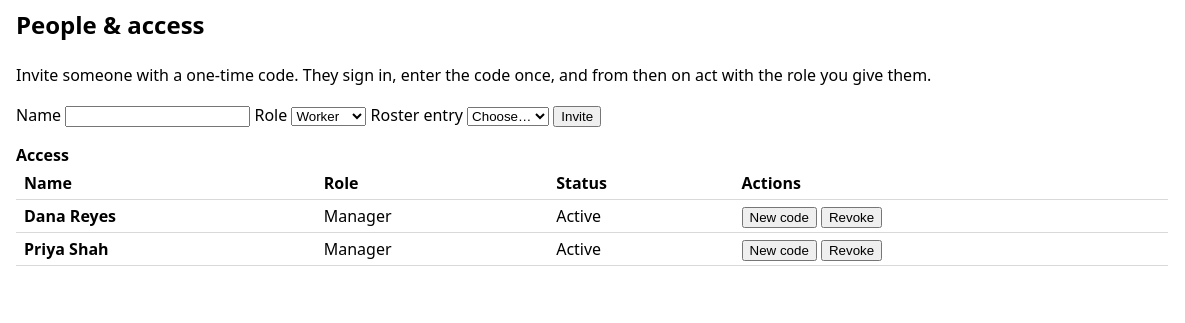
Test: Access › revokes access, and says why it cannot
Click the button "Revoke" in the row of "Dana Reyes".
click(852, 217)  # box x1=821 y1=207 x2=882 y2=228
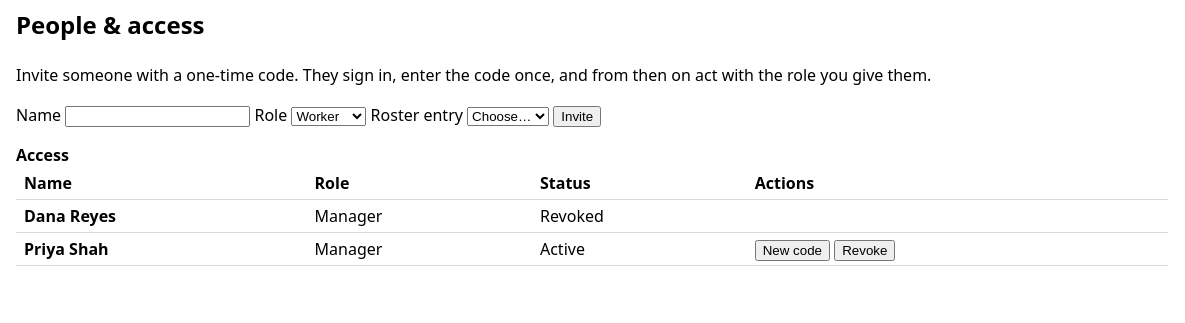
Now the row "Dana Reyes Manager Revoked" is shown, box x1=16 y1=199 x2=1168 y2=232
Click the button "Revoke".
click(865, 250)  # box x1=834 y1=240 x2=895 y2=261
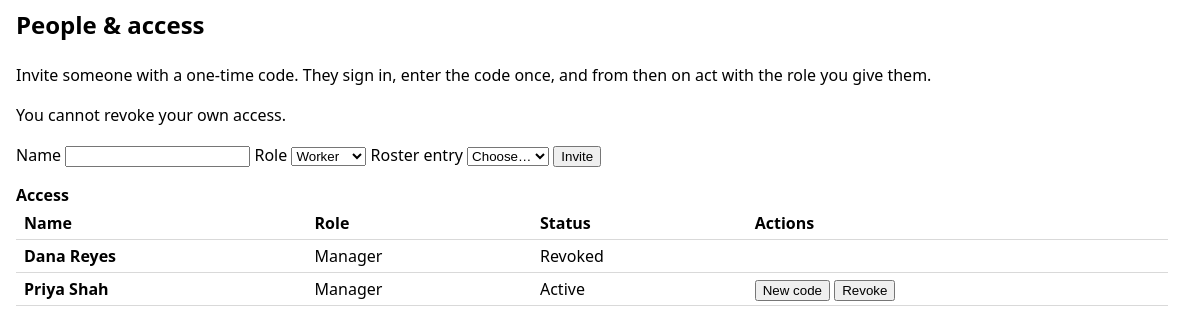
Now the message reads "You cannot revoke your own access.", box x1=16 y1=104 x2=286 y2=126
